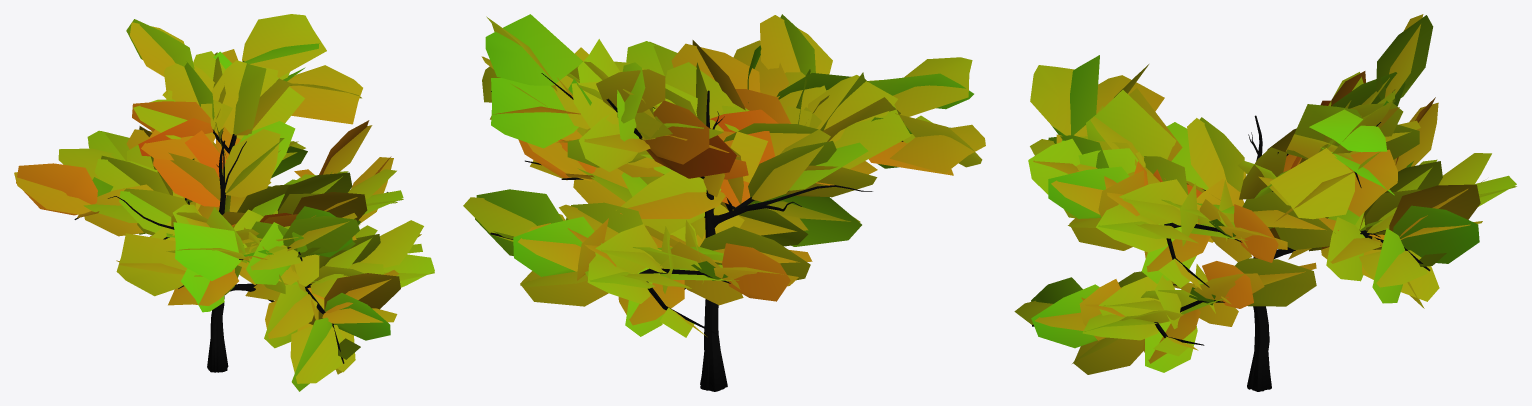
The model's file is Tree_small_1.glb.
The picture shows the model from 3 angles, left to right: view 1: azimuth 30°, elevation 25°; view 2: azimuth 150°, elevation 25°; view 3: azimuth 270°, elevation 25°; orthographic projection. The views are drawn at different scales.
Visible parts, largest first — view 1: Tree small 1; view 2: Tree small 1; view 3: Tree small 1.
Part boxes in pixels (x1,y1,x2,y2): Tree small 1: (14, 14, 434, 391); Tree small 1: (463, 14, 985, 391); Tree small 1: (1014, 14, 1516, 391).
Bounding box in the file's own units: 13.29 × 11.79 × 14.8.
